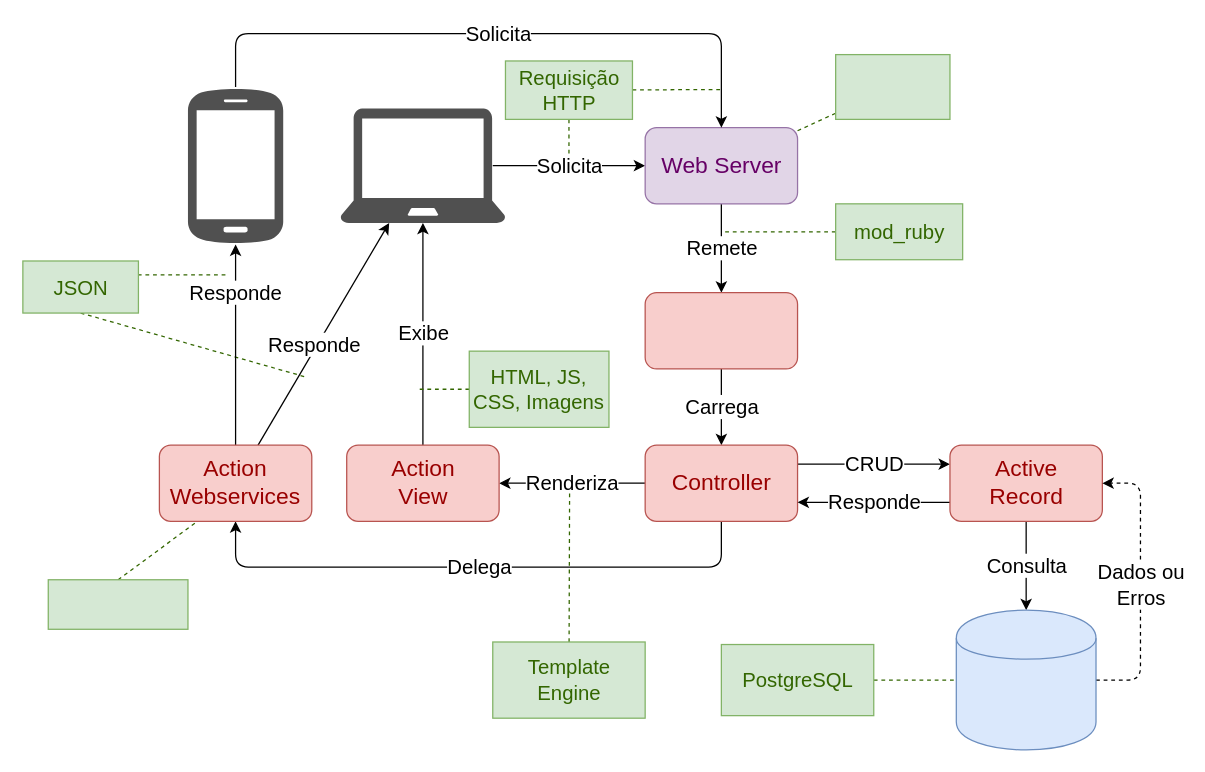
Image size: 1205x772. Some labels were removed from this diagram. The shapes that lost their labels are listed below. From the top down, each one's centre as x and y in pixels, then its label:
At point 892,86: "Apache".
At point 235,165: "Android APP".
At point 422,165: "Navegador".
At point 721,330: "Dispatcher".
At point 117,603: "REST API".
At point 1025,679: "Banco de Dados".
